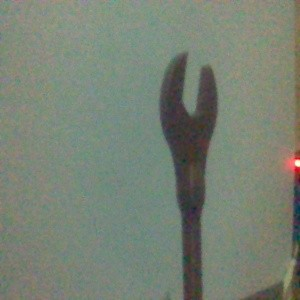spanner: (159, 50, 219, 300)
